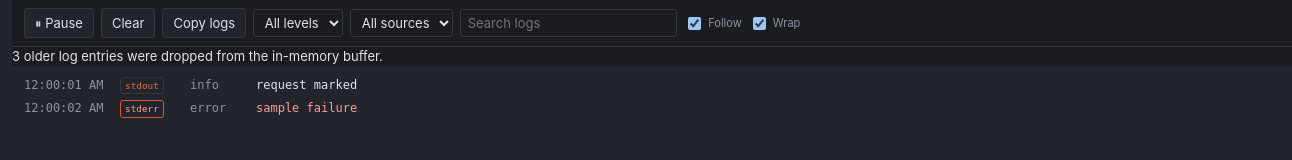
Test case: PluginLogConsole › polls incrementally and filters by source, level, and text
The image size is (1292, 160).
Check: the text "request marked" is shown, box [256,78,357,92]
Check: the text "sample failure" is shown, box [256,101,357,115]
Select "stderr" in the dropdown named "Log source" at (402, 23), box [350,9,453,37]
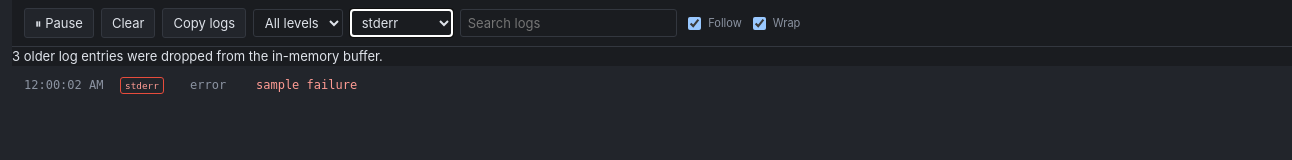
Check: the text "sample failure" is shown, box [256,78,357,92]
Check: the text "request marked" is gone
Select "info" in the dropdown named "Log level" at (298, 23), box [253,9,343,37]
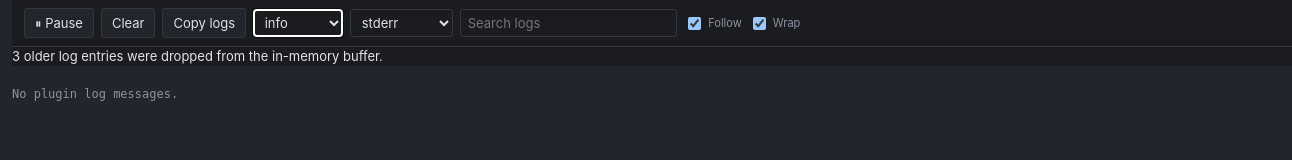
Check: the text "sample failure" is gone
Select "All levels" in the dropdown named "Log level" at (298, 23), box [253,9,343,37]
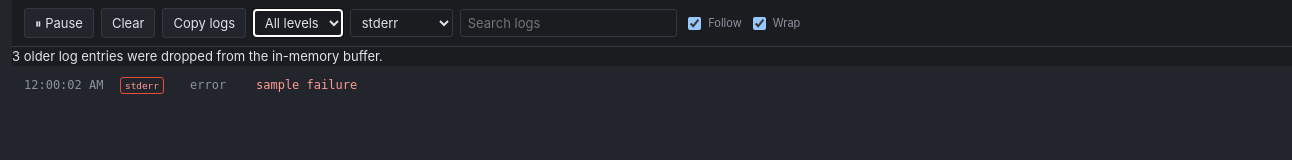
Select "All sources" in the dropdown named "Log source" at (402, 23), box [350,9,453,37]
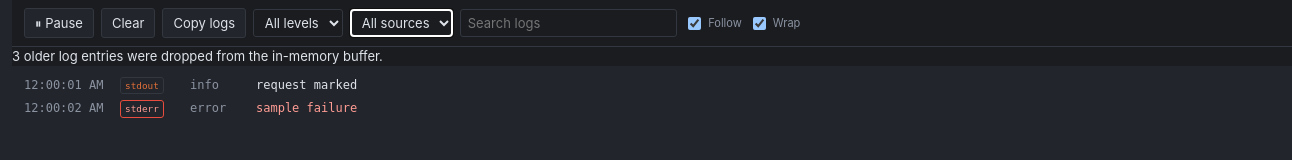
Type "marked" into the field labelled "Search logs" at (569, 23), box [460,9,677,37]
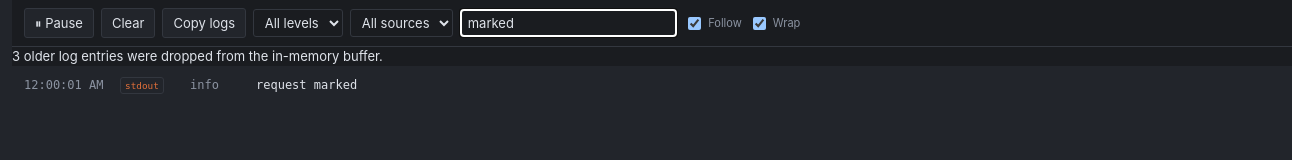
Check: the text "request marked" is shown, box [256,78,357,92]
Check: the text "sample failure" is gone
